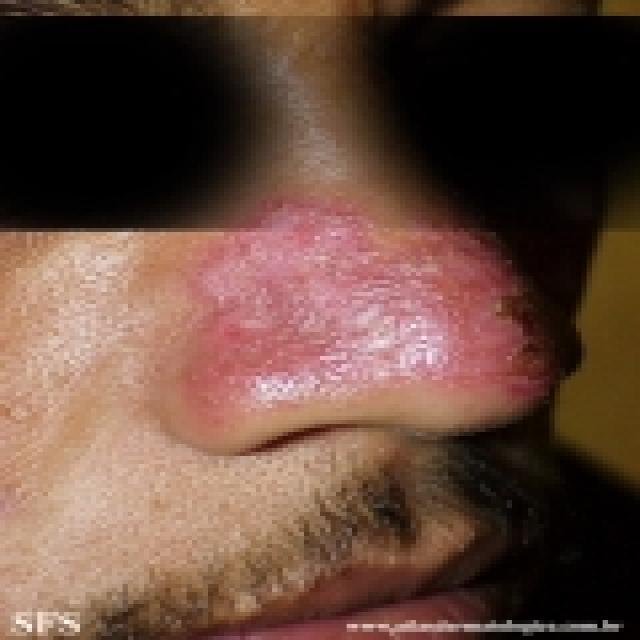lupus: (165, 242, 568, 432)
